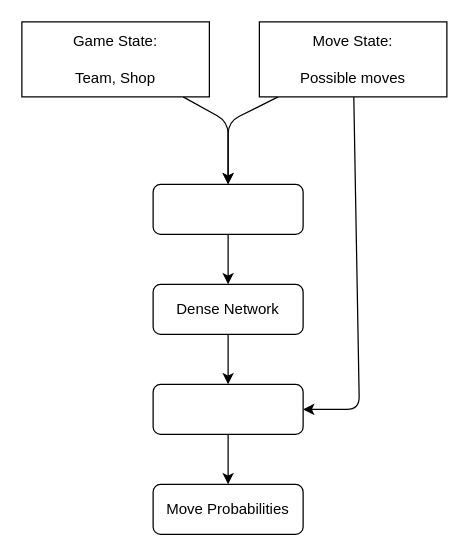
The diagram is 469 pixels wide and 556 high, and some of its shapes have lost their labels. The shapes that lost their labels are listed below. From the top down, each one's centre as x and y in pixels, then its label:
At (227,208): "Flatten".
At (227,408): "Filter by possible".
